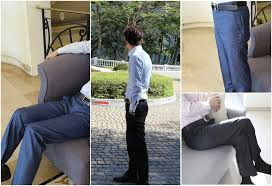F_shirt: (125, 47, 154, 115)
